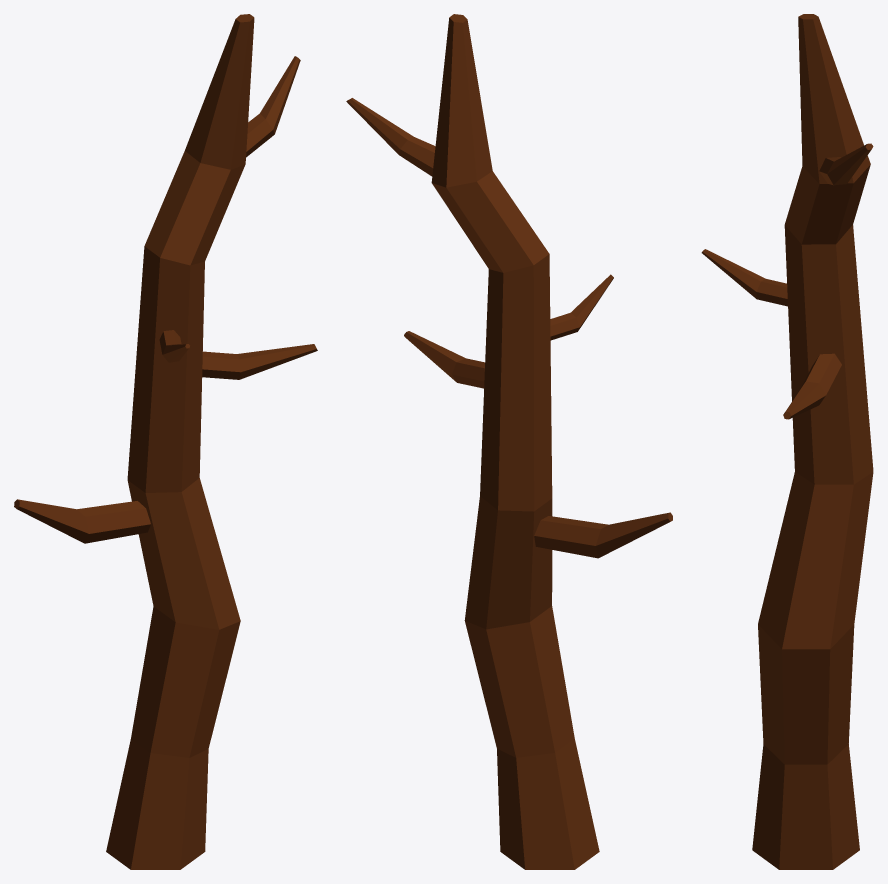
Rendered from tree_dead_1.fbx.
3 views of the same model, side by side, from view 1: azimuth 30°, elevation 25°; view 2: azimuth 150°, elevation 25°; view 3: azimuth 270°, elevation 25° (orthographic). The views are drawn at different scales.
Parts seen in each view (by area): view 1: badtree; view 2: badtree; view 3: badtree.
Boxes of the visible parts, left/top/right/bottom form: badtree: left=14, top=14, right=317, bottom=869; badtree: left=346, top=14, right=672, bottom=869; badtree: left=701, top=14, right=873, bottom=869.
Bounding box in the file's own units: 70.91 × 181 × 31.91.
